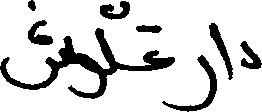X: (0, 0, 74, 98), (175, 20, 209, 111), (76, 0, 103, 103), (143, 20, 173, 111), (211, 18, 232, 107), (105, 0, 114, 94), (243, 36, 261, 73)
